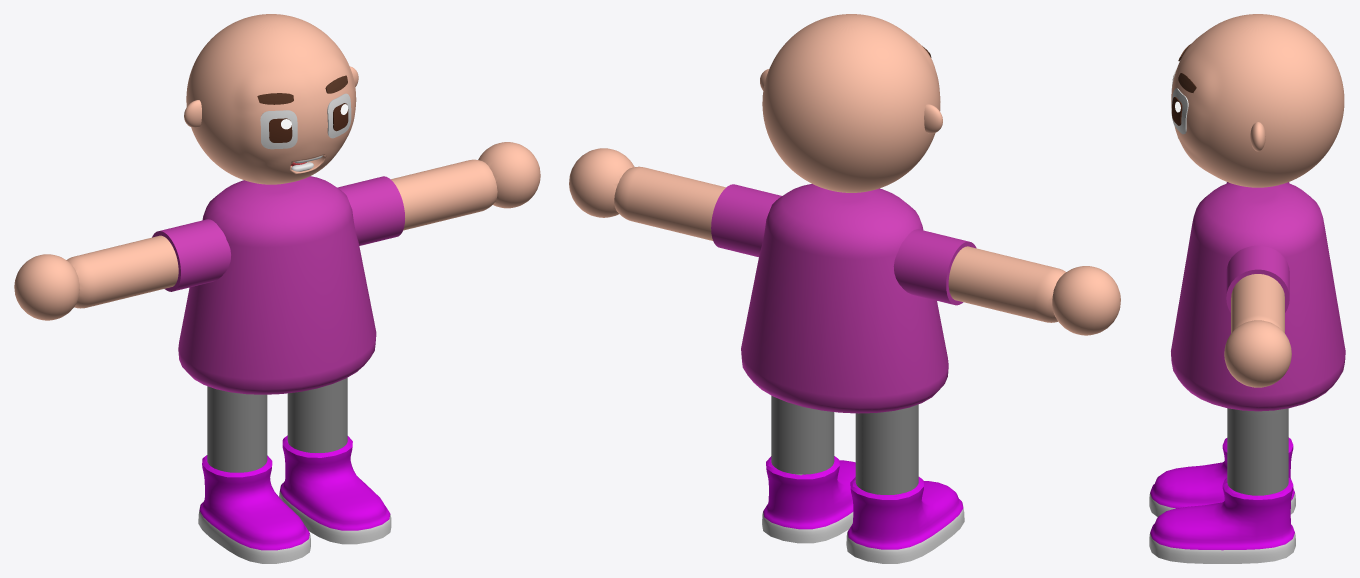
Rendered from persona.glb.
3 renders of one model, left to right at view 1: azimuth 30°, elevation 25°; view 2: azimuth 150°, elevation 25°; view 3: azimuth 270°, elevation 25°, orthographic. The views are drawn at different scales.
Visible parts, largest first — view 1: Círculo.002, cabeza, piernaDerecha, piernaIzquierda, brazoDerecho, brazoIzquierda, mangaDerecha, mangaIzquierda, Plano.002, Plano.005; view 2: Círculo.002, cabeza, piernaDerecha, piernaIzquierda, brazoDerecho, brazoIzquierda, mangaDerecha, mangaIzquierda; view 3: Círculo.002, cabeza, piernaIzquierda, brazoIzquierda, piernaDerecha, mangaIzquierda, Plano, orejas, Plano.005.
Boxes of the visible parts, bbox=[...] form: Círculo.002: bbox=[178, 176, 376, 394]; cabeza: bbox=[186, 14, 356, 184]; piernaDerecha: bbox=[198, 386, 310, 563]; piernaIzquierda: bbox=[279, 377, 391, 544]; brazoDerecho: bbox=[14, 235, 178, 320]; brazoIzquierda: bbox=[391, 142, 540, 230]; mangaDerecha: bbox=[152, 219, 230, 291]; mangaIzquierda: bbox=[337, 176, 404, 245]; Plano.002: bbox=[260, 110, 297, 149]; Plano.005: bbox=[257, 75, 347, 104]; Círculo.002: bbox=[741, 184, 948, 413]; cabeza: bbox=[762, 14, 940, 192]; piernaDerecha: bbox=[846, 404, 964, 563]; piernaIzquierda: bbox=[762, 395, 855, 543]; brazoDerecho: bbox=[948, 246, 1120, 335]; brazoIzquierda: bbox=[569, 148, 725, 240]; mangaDerecha: bbox=[893, 229, 976, 305]; mangaIzquierda: bbox=[711, 184, 781, 257]; Círculo.002: bbox=[1171, 182, 1345, 411]; cabeza: bbox=[1171, 14, 1344, 187]; piernaIzquierda: bbox=[1149, 408, 1295, 563]; brazoIzquierda: bbox=[1224, 274, 1291, 387]; piernaDerecha: bbox=[1149, 437, 1295, 516]; mangaIzquierda: bbox=[1226, 245, 1289, 312]; Plano: bbox=[1171, 88, 1188, 134]; orejas: bbox=[1250, 122, 1265, 151]; Plano.005: bbox=[1178, 44, 1196, 92].
Bounding box in the file's own units: 5.75 × 5.23 × 1.86.
